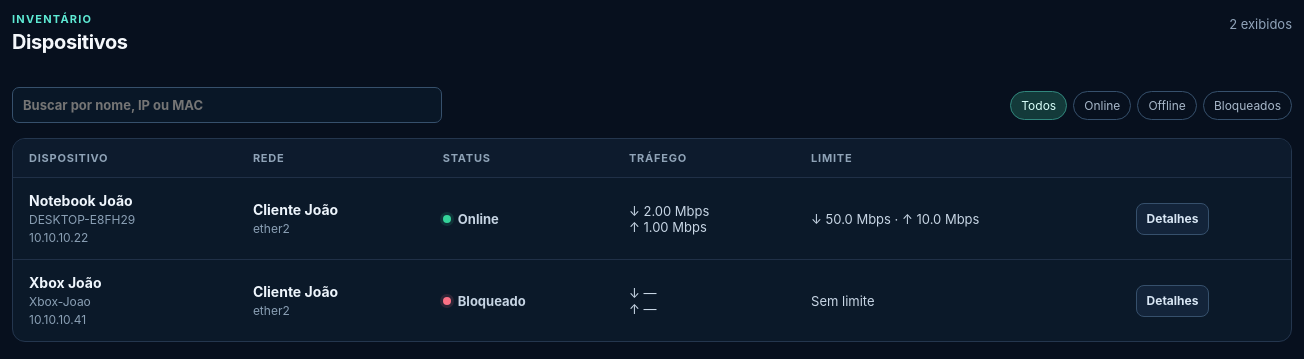
it: filters devices by search and blocked state
Type "notebook" into the field with placeholder "Buscar por nome, IP ou MAC" at coordinates (227, 105), box [12, 87, 442, 123]
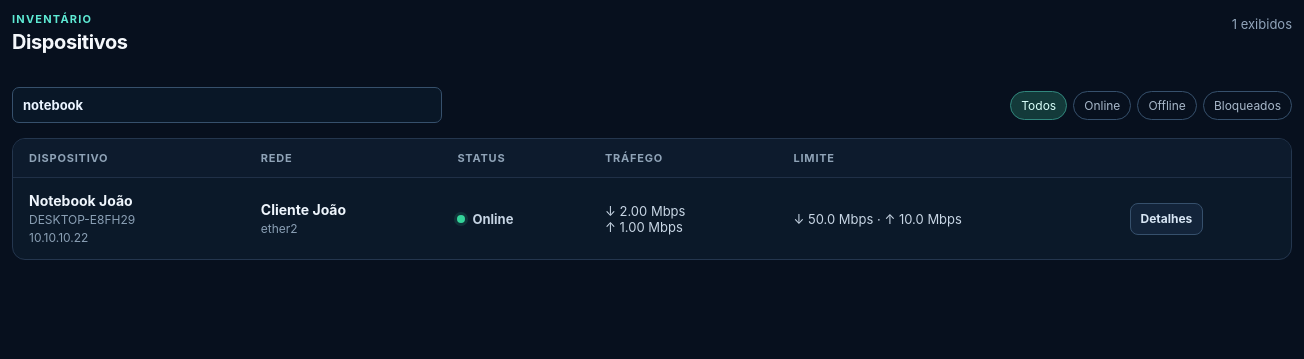
Check: the text "Notebook João" is shown, box [29, 192, 133, 209]
Check: the text "Xbox João" is gone
Clear the field with placeholder "Buscar por nome, IP ou MAC" at coordinates (227, 105), box [12, 87, 442, 123]
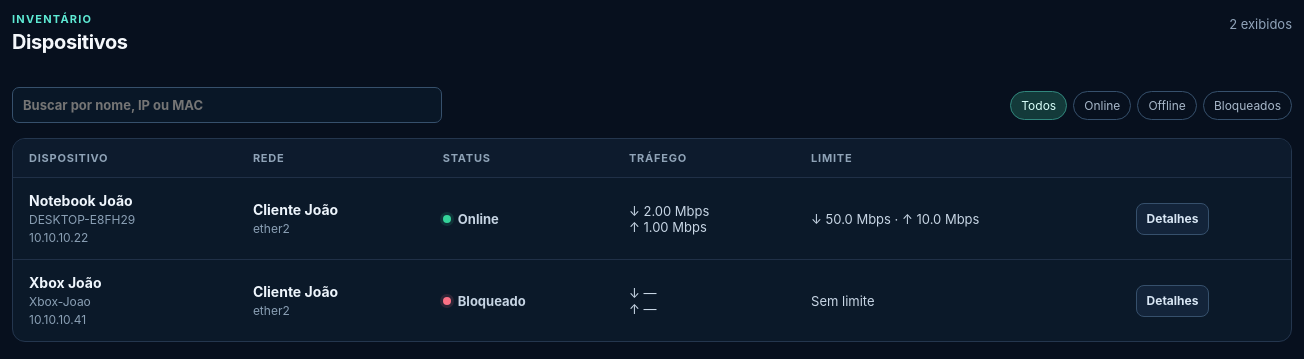
Click the button "Bloqueados" at coordinates (1247, 105), box [1203, 90, 1292, 120]
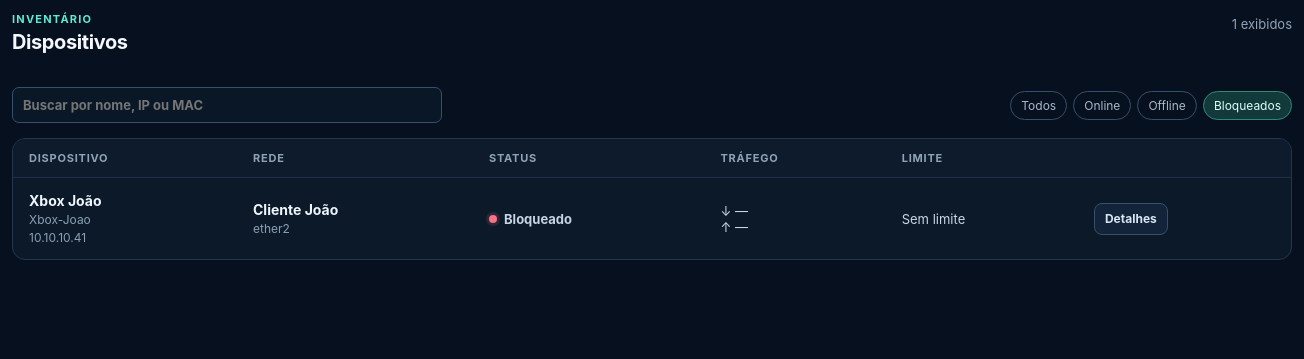
Check: the text "Xbox João" is shown, box [29, 192, 102, 209]
Check: the text "Notebook João" is gone
